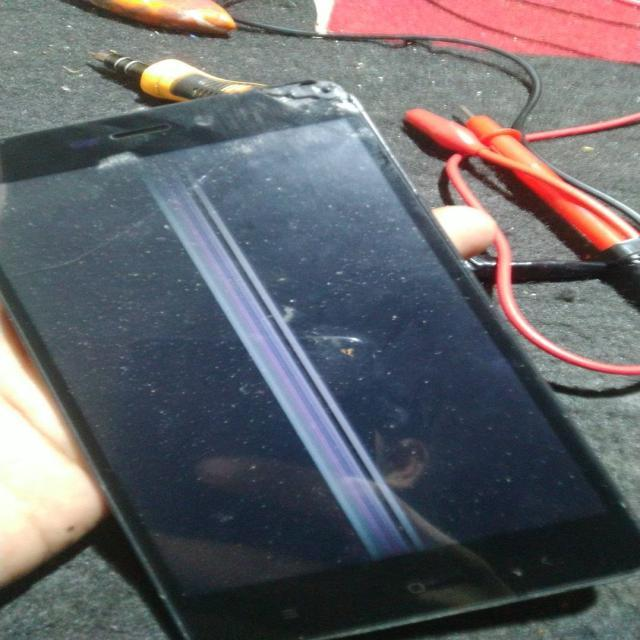phone: (0, 78, 640, 639)
